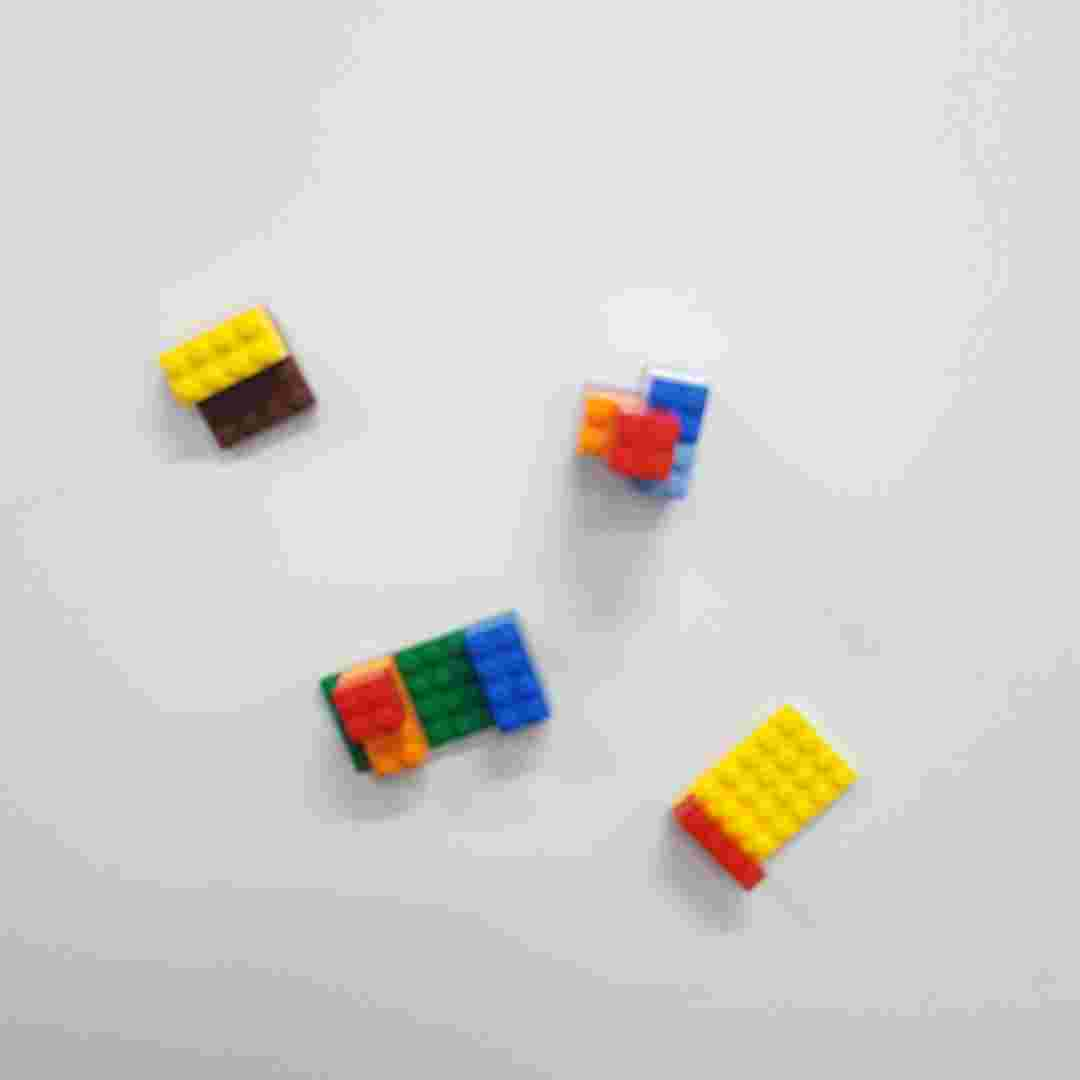LEGO: (315, 607, 555, 782), (671, 704, 860, 886), (156, 299, 320, 453), (570, 367, 710, 504)
